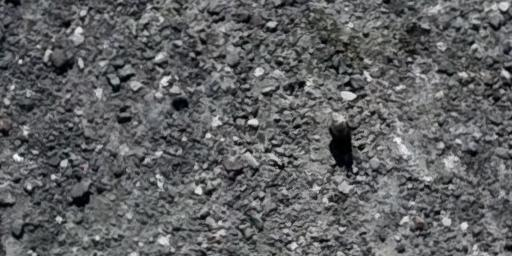skua: (318, 105, 362, 176)
